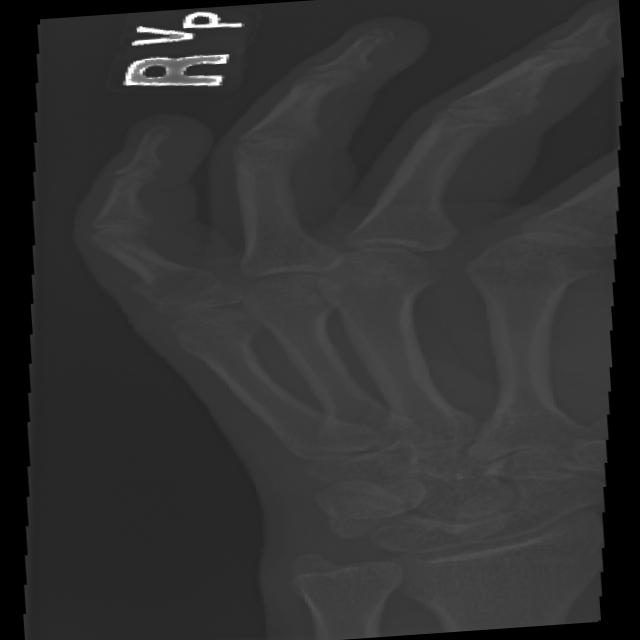fingers positive: (227, 128, 335, 169)
